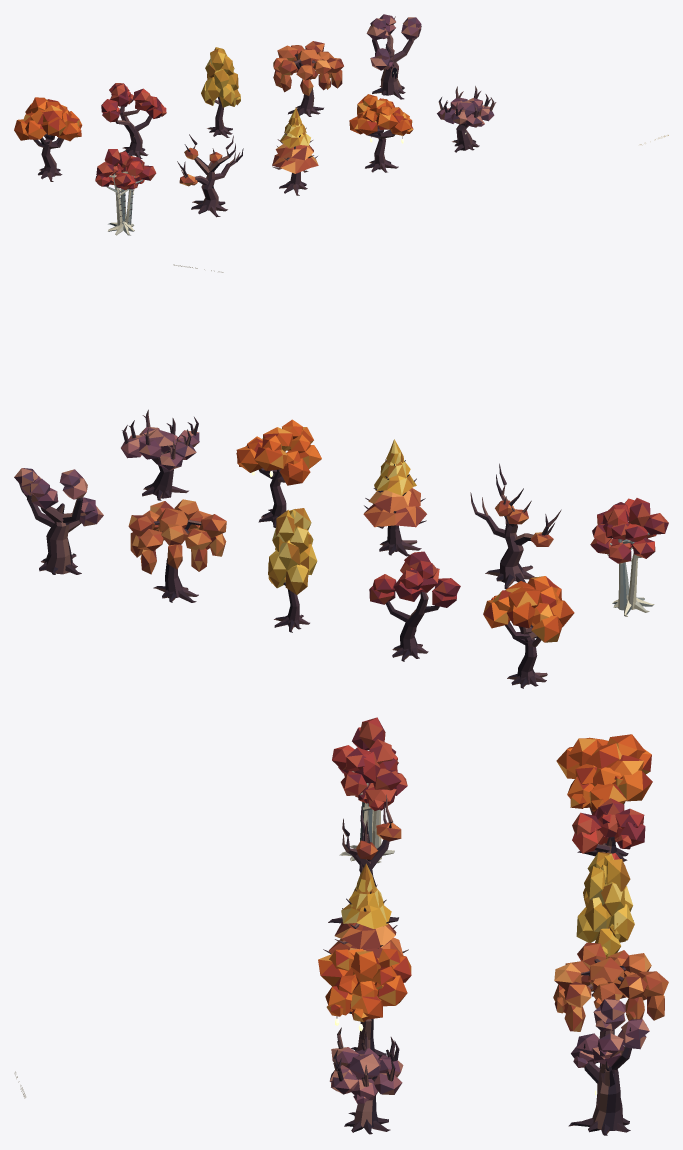
File: The-Hollow-Grove.fbx
3 views of the same model, one above another, from view 1: azimuth 30°, elevation 25°; view 2: azimuth 150°, elevation 25°; view 3: azimuth 270°, elevation 25° (orthographic). The views are drawn at different scales.
Visible parts, largest first — view 1: 04 Weeping Ember, 01 Crooked Maple, 06 Blood Birch, 09 Lantern Rowan, 05 Hollow Elder, 02 Witch Hazel, 03 Amber Spire, 08 Cinder Pine, 07 Gallows Oak, 10 Thorn Crown; view 2: 04 Weeping Ember, 01 Crooked Maple, 06 Blood Birch, 05 Hollow Elder, 09 Lantern Rowan, 02 Witch Hazel, 08 Cinder Pine, 03 Amber Spire, 10 Thorn Crown, 07 Gallows Oak; view 3: 04 Weeping Ember, 09 Lantern Rowan, 01 Crooked Maple, 05 Hollow Elder, 06 Blood Birch, 03 Amber Spire, 10 Thorn Crown, 08 Cinder Pine, 02 Witch Hazel, 07 Gallows Oak.
Boxes of the visible parts, <box> form: 04 Weeping Ember: <box>273,41,343,116</box>; 01 Crooked Maple: <box>14,97,82,181</box>; 06 Blood Birch: <box>95,149,156,235</box>; 09 Lantern Rowan: <box>349,94,413,172</box>; 05 Hollow Elder: <box>366,14,421,99</box>; 02 Witch Hazel: <box>101,83,166,158</box>; 03 Amber Spire: <box>201,47,240,137</box>; 08 Cinder Pine: <box>272,107,318,195</box>; 07 Gallows Oak: <box>177,134,243,217</box>; 10 Thorn Crown: <box>437,86,496,152</box>; 04 Weeping Ember: <box>128,499,226,602</box>; 01 Crooked Maple: <box>483,576,574,688</box>; 06 Blood Birch: <box>590,498,668,616</box>; 05 Hollow Elder: <box>14,468,103,574</box>; 09 Lantern Rowan: <box>236,419,321,527</box>; 02 Witch Hazel: <box>369,551,460,661</box>; 08 Cinder Pine: <box>363,439,426,556</box>; 03 Amber Spire: <box>268,508,317,632</box>; 10 Thorn Crown: <box>121,409,199,500</box>; 07 Gallows Oak: <box>470,463,561,588</box>; 04 Weeping Ember: <box>553,942,668,1068</box>; 09 Lantern Rowan: <box>318,949,411,1057</box>; 01 Crooked Maple: <box>556,734,652,861</box>; 05 Hollow Elder: <box>568,999,649,1135</box>; 06 Blood Birch: <box>332,717,407,863</box>; 03 Amber Spire: <box>576,852,634,996</box>; 10 Thorn Crown: <box>329,1027,403,1134</box>; 08 Cinder Pine: <box>323,863,408,958</box>; 02 Witch Hazel: <box>572,798,645,920</box>; 07 Gallows Oak: <box>328,794,401,923</box>.
Size of the model in its own units: 3831 by 678 by 2881.
